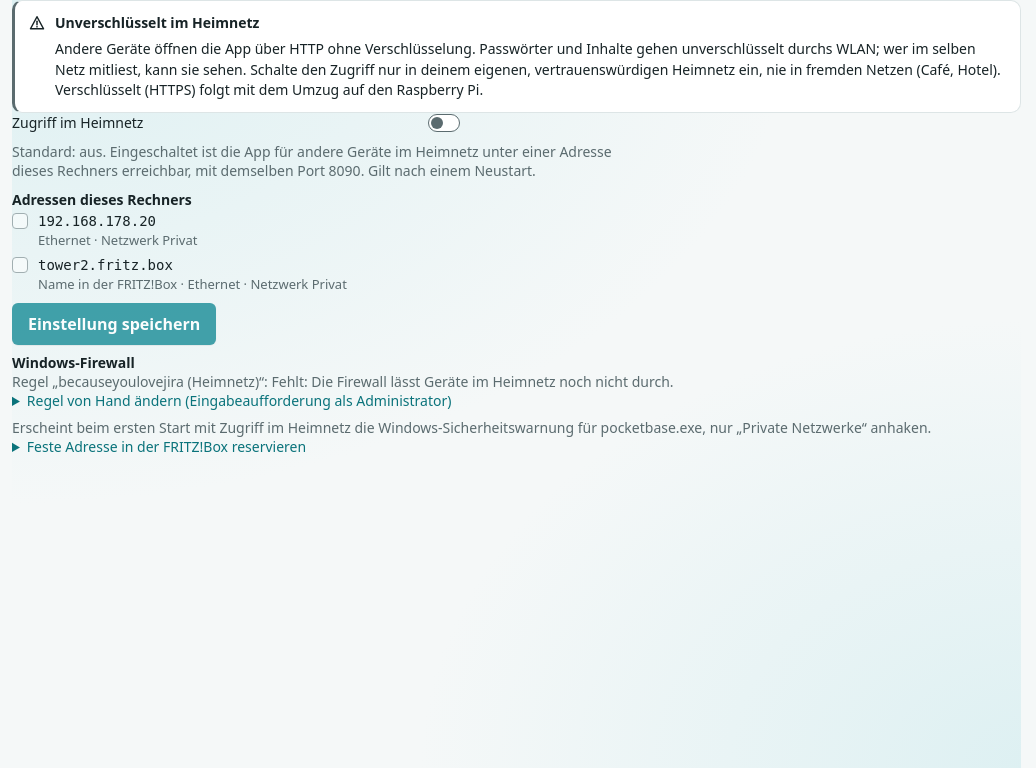
access in the home network › switches on with the first address, saves after a click and names the restart
This screenshot has width=1036, height=768.
Click the switch labelled "Zugriff im Heimnetz" at (444, 123), box [428, 114, 460, 132]
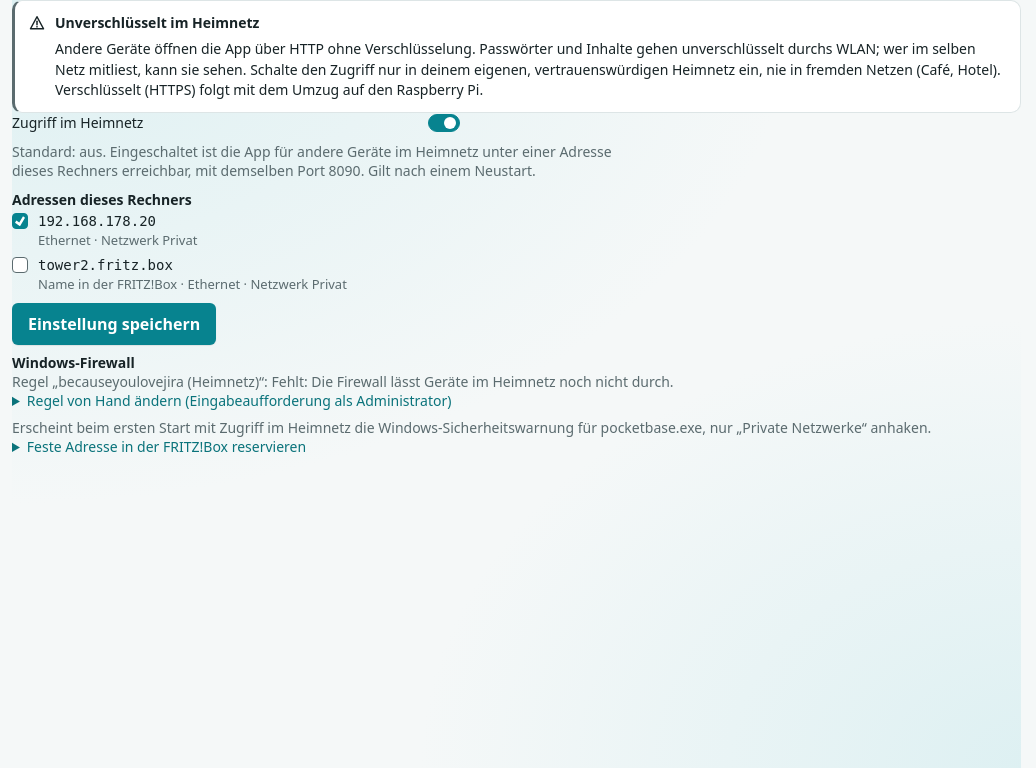
Now the checkbox labelled "192.168.178.20 Ethernet · Netzwerk Privat" is checked, box [12, 213, 28, 229]
Click the 2nd checkbox at (20, 265), box [12, 257, 28, 273]
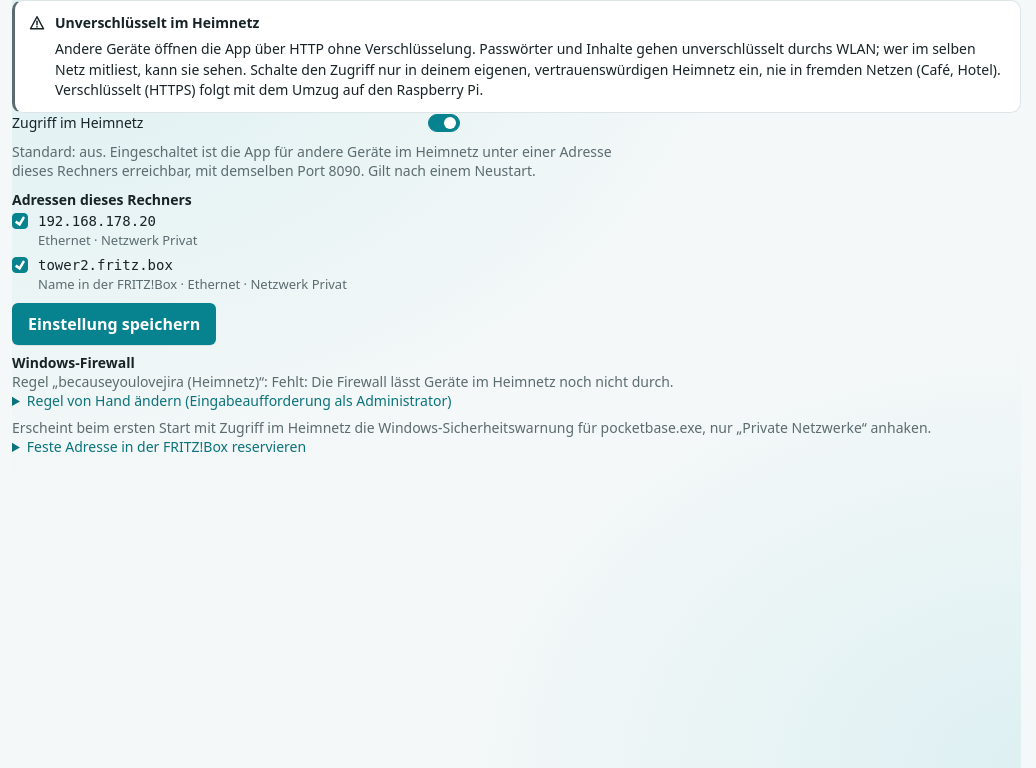
Click the button "Einstellung speichern" at (114, 324), box [12, 303, 216, 345]
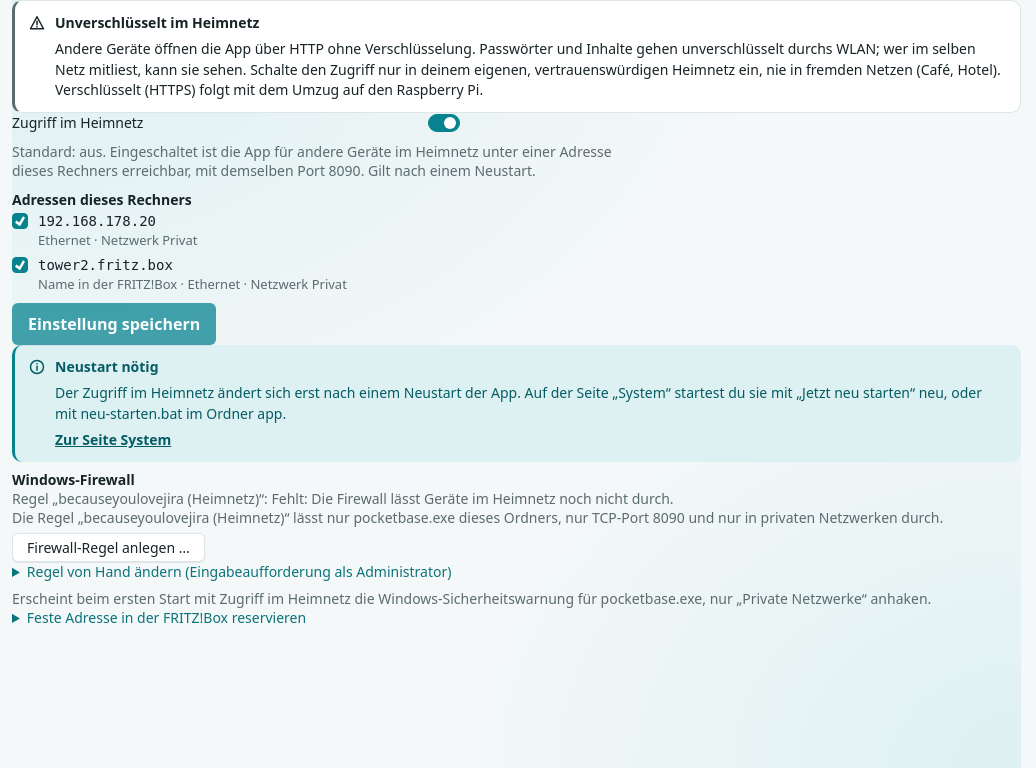
Now the heading "Neustart nötig" is shown, box [54, 356, 158, 376]
Now the button "Firewall-Regel anlegen …" is shown, box [12, 533, 205, 562]
